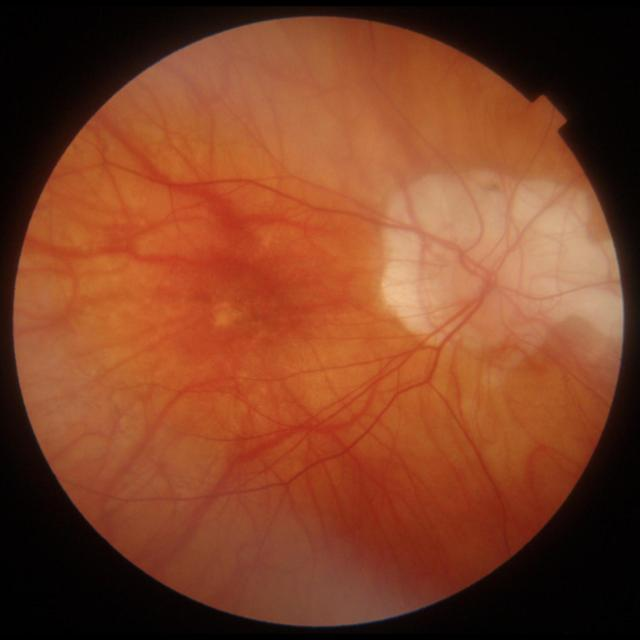OD: (417, 207, 550, 358)
